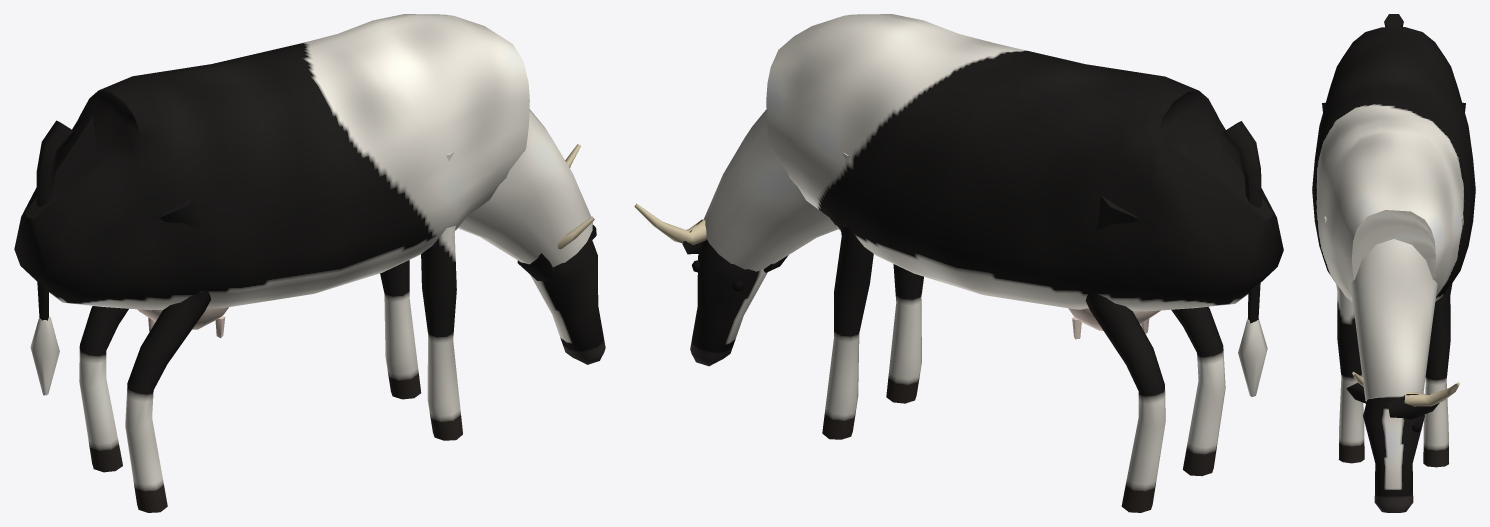
Rendered from tpl_life_herd_1750_cattle_blackpied_graze_h.glb.
The picture shows the model from 3 angles, left to right: view 1: azimuth 30°, elevation 25°; view 2: azimuth 150°, elevation 25°; view 3: azimuth 270°, elevation 25°; orthographic projection. The views are drawn at different scales.
Parts seen in each view (by area): view 1: tpl_life_herd_1750_cattle_blackpied_graze_h; view 2: tpl_life_herd_1750_cattle_blackpied_graze_h; view 3: tpl_life_herd_1750_cattle_blackpied_graze_h.
Boxes of the visible parts, box(x1,y1,x2,y2) form: tpl_life_herd_1750_cattle_blackpied_graze_h: box(14, 14, 605, 512); tpl_life_herd_1750_cattle_blackpied_graze_h: box(634, 14, 1283, 512); tpl_life_herd_1750_cattle_blackpied_graze_h: box(1312, 14, 1475, 512).
Bounding box in the file's own units: 2.21 × 1.41 × 0.6588.
3 materials, 1 textured.
